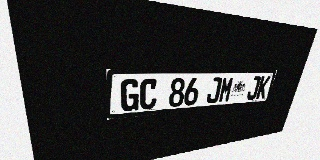6: (183, 78, 201, 106)
8: (168, 78, 186, 107)
C: (139, 78, 158, 110)
G: (120, 79, 140, 112)
J: (206, 77, 223, 104), (246, 76, 261, 100)
K: (255, 76, 271, 99)
M: (218, 77, 234, 103)
